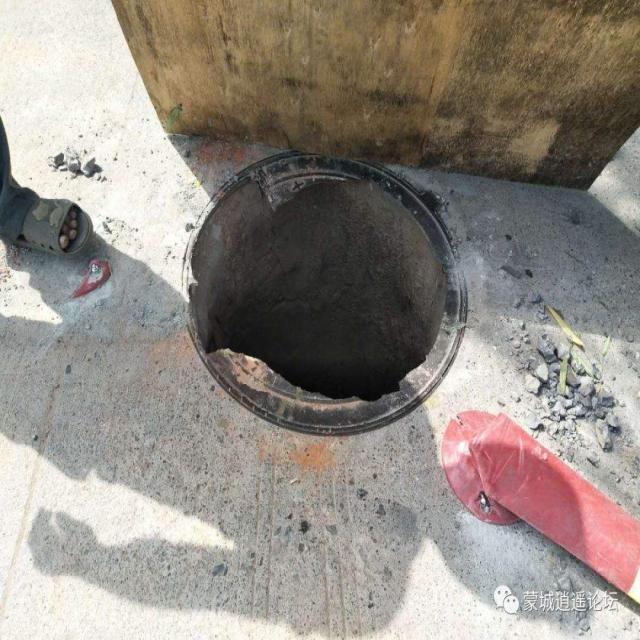manhole-cover: (184, 148, 485, 460)
